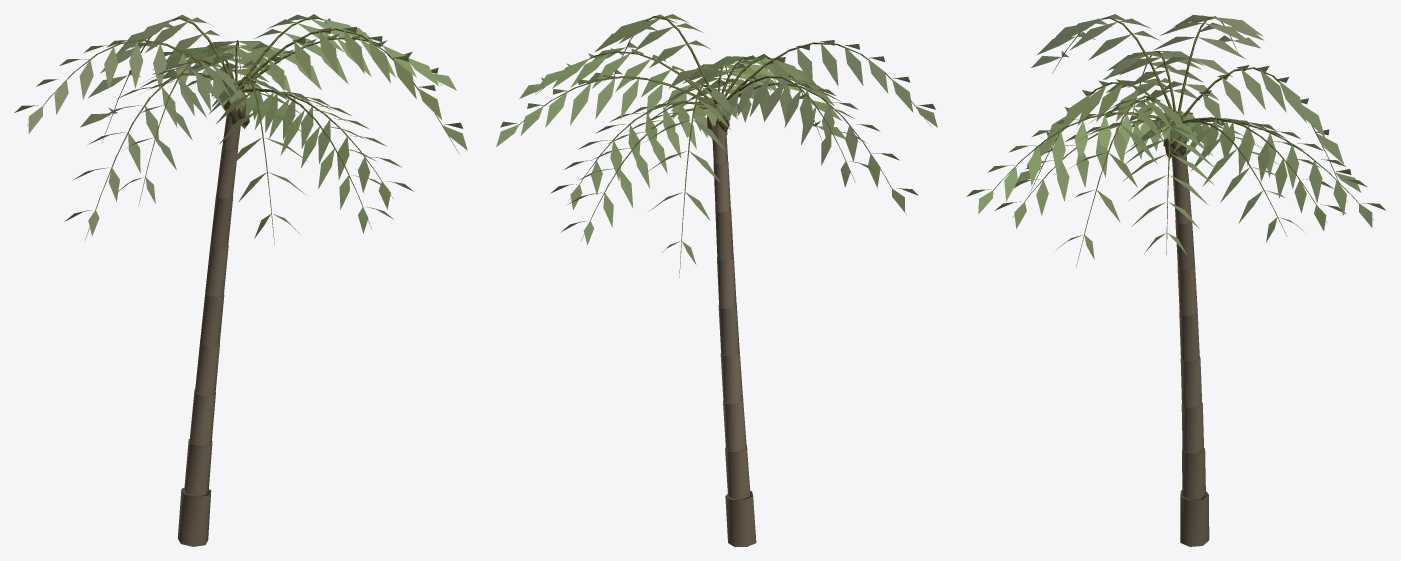
The model's file is palm-lod.glb.
3 views of the same model, side by side, from view 1: azimuth 30°, elevation 25°; view 2: azimuth 150°, elevation 25°; view 3: azimuth 270°, elevation 25° (orthographic). The views are drawn at different scales.
Parts seen in each view (by area): view 1: CanaryPalm; view 2: CanaryPalm; view 3: CanaryPalm.
Boxes of the visible parts, x1,y1,x2,y2 form: CanaryPalm: (14,14,467,546); CanaryPalm: (496,14,937,546); CanaryPalm: (966,14,1385,546).
Size of the model in its own units: 8.82 by 10.99 by 8.39.
